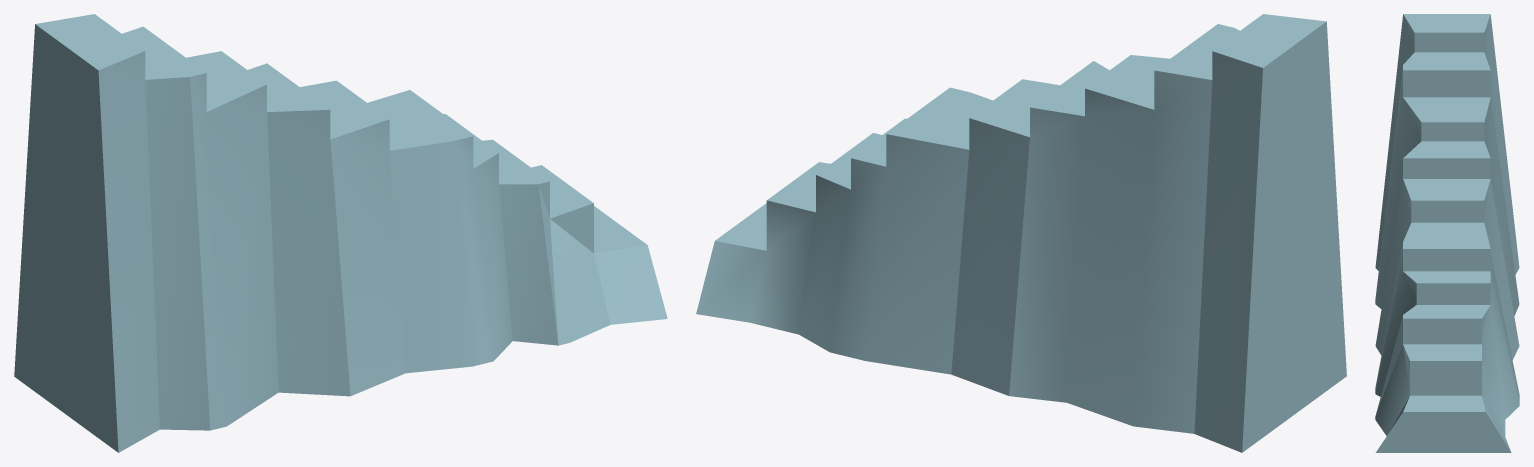
File: Terrain_Modular_Tiles_Ice_Stairs_03.fbx
The picture shows the model from 3 angles, left to right: view 1: azimuth 30°, elevation 25°; view 2: azimuth 150°, elevation 25°; view 3: azimuth 270°, elevation 25°; orthographic projection. The views are drawn at different scales.
Visible parts, largest first — view 1: Terrain_Modular_Tiles_Ice_Stairs_03; view 2: Terrain_Modular_Tiles_Ice_Stairs_03; view 3: Terrain_Modular_Tiles_Ice_Stairs_03.
Boxes of the visible parts, x1=… form: Terrain_Modular_Tiles_Ice_Stairs_03: x1=14, y1=14, x2=667, y2=452; Terrain_Modular_Tiles_Ice_Stairs_03: x1=696, y1=14, x2=1346, y2=452; Terrain_Modular_Tiles_Ice_Stairs_03: x1=1375, y1=14, x2=1519, y2=452.
Bounding box in the file's own units: 148 × 94.49 × 48.57.
